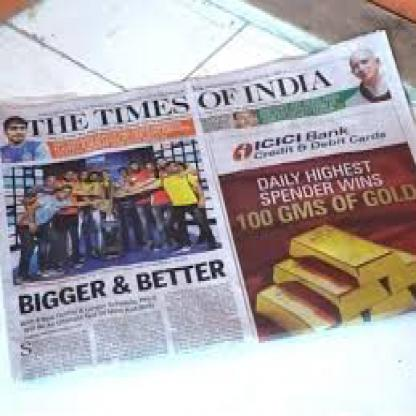paper: (0, 27, 415, 378)
